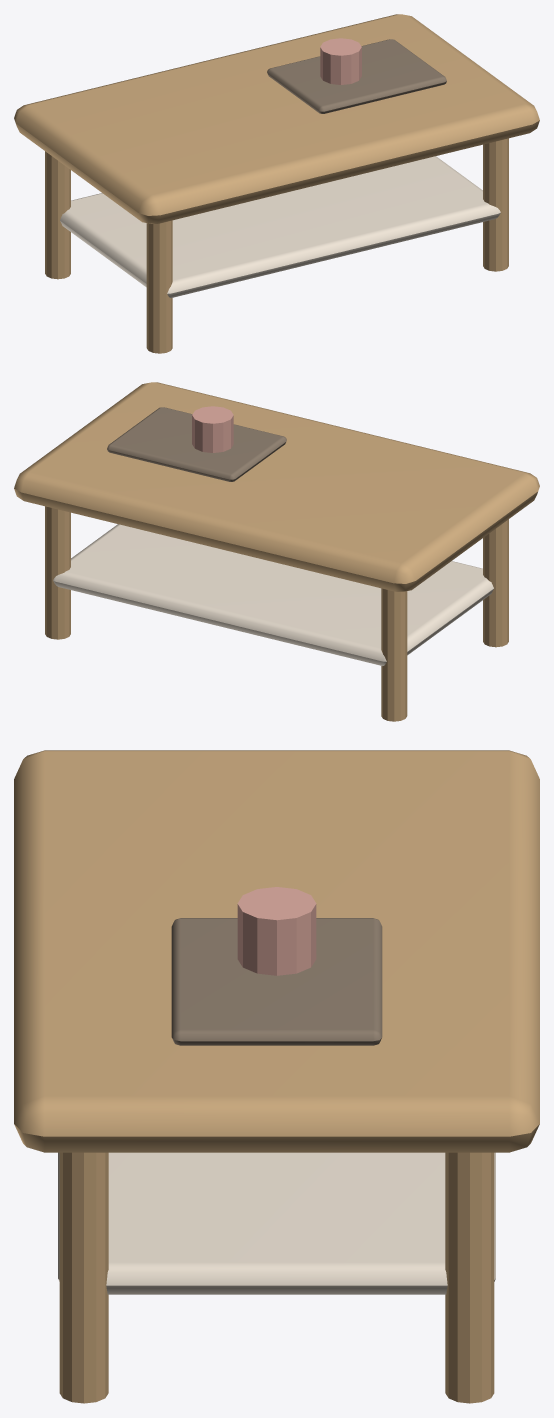
The model's file is coffee.glb.
3 views of the same model, one above another, from view 1: azimuth 30°, elevation 25°; view 2: azimuth 150°, elevation 25°; view 3: azimuth 270°, elevation 25° (orthographic). The views are drawn at different scales.
Parts seen in each view (by area): view 1: top, shelf, tray, leg, leg.002, leg.001, cup; view 2: top, shelf, tray, leg.001, leg.003, leg, cup; view 3: top, shelf, tray, leg.002, leg.003, cup.
Boxes of the visible parts, <box> form: top: <box>14,14,539,223</box>; shelf: <box>60,156,500,297</box>; tray: <box>267,39,446,113</box>; leg: <box>146,220,172,353</box>; leg.002: <box>483,138,508,271</box>; leg.001: <box>45,151,70,279</box>; cup: <box>320,38,361,84</box>; top: <box>14,382,539,591</box>; shelf: <box>53,524,493,665</box>; tray: <box>107,407,286,481</box>; leg.001: <box>381,588,407,721</box>; leg.003: <box>45,506,70,639</box>; leg: <box>483,519,508,647</box>; cup: <box>192,406,233,452</box>; top: <box>14,750,539,1152</box>; shelf: <box>58,1152,495,1294</box>; tray: <box>171,918,382,1045</box>; leg.002: <box>59,1152,108,1403</box>; leg.003: <box>445,1152,494,1403</box>; cup: <box>237,887,316,975</box>.
Bounding box in the file's own units: 1 × 0.495 × 0.6.
